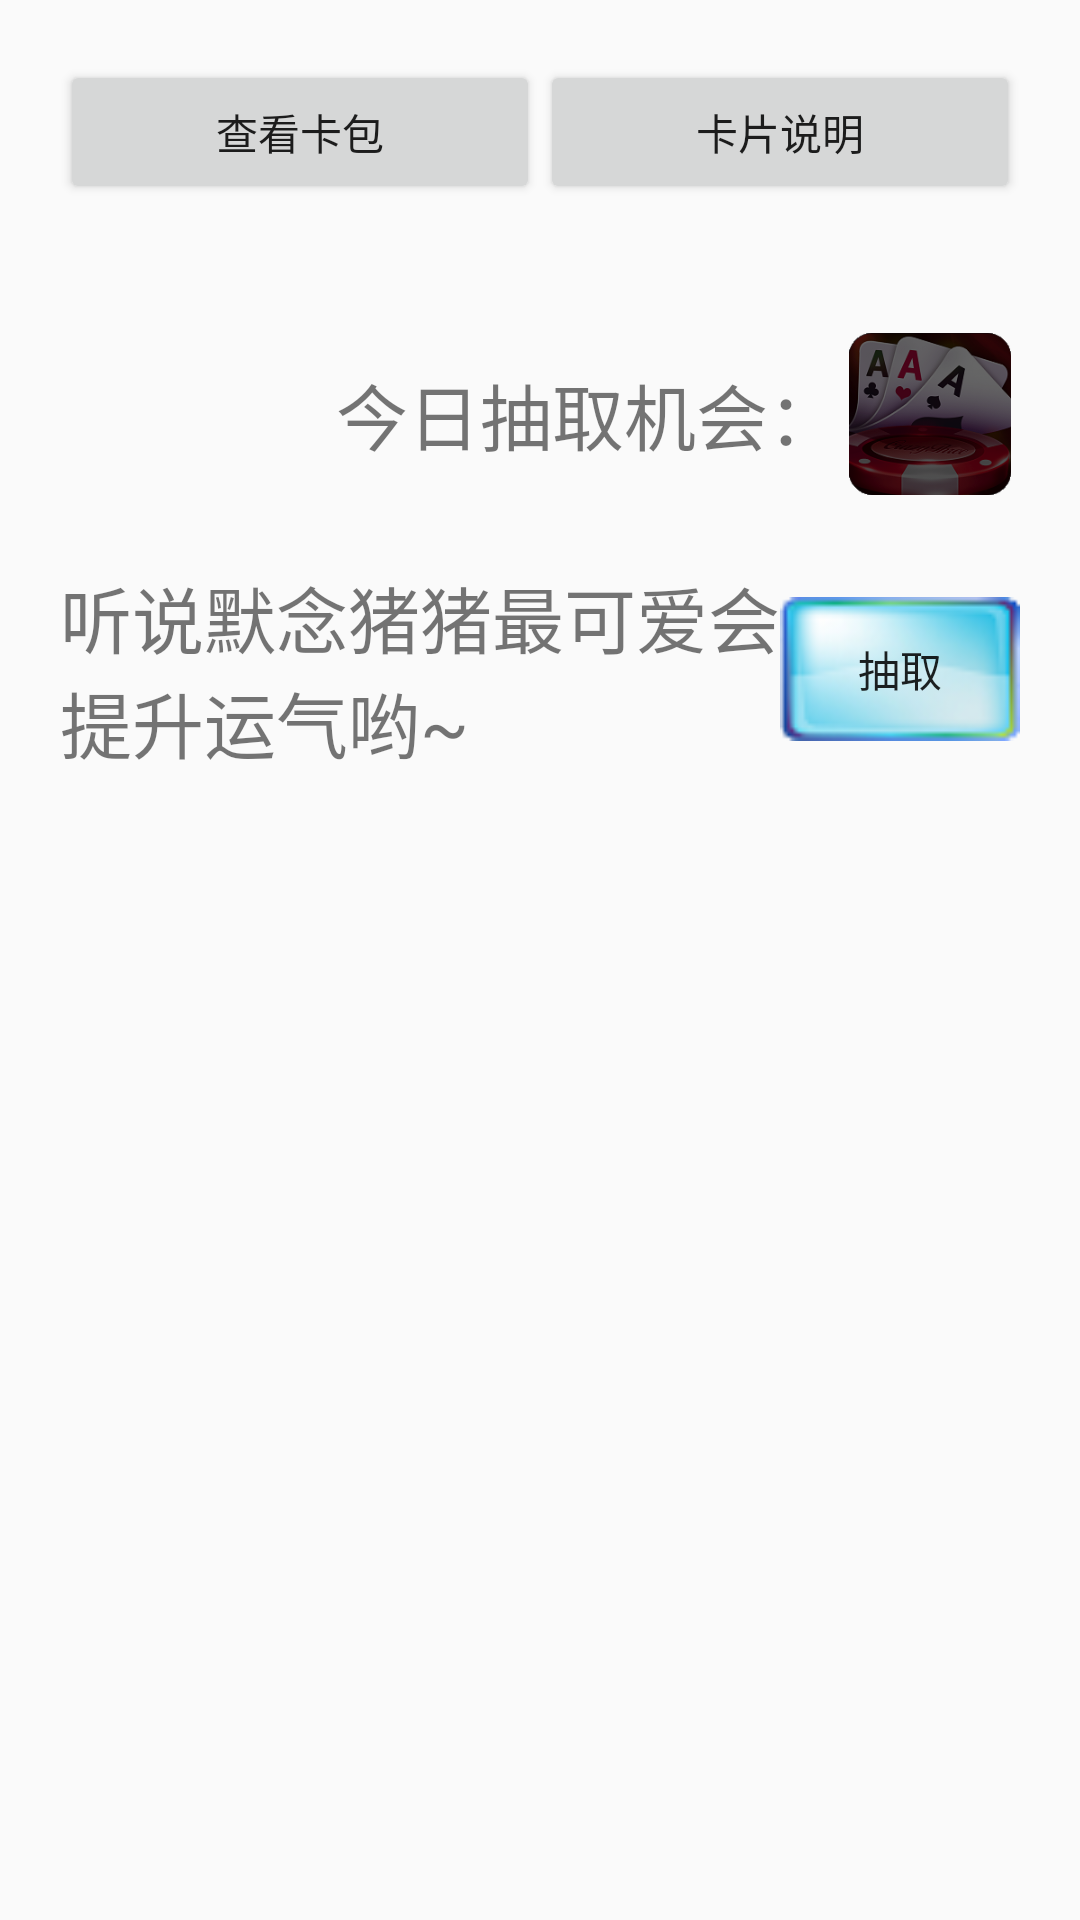

Named icons in this screenshot (1080px×1920px) and their centers, (x=x, y=y):
cardn: (x=930, y=414)
